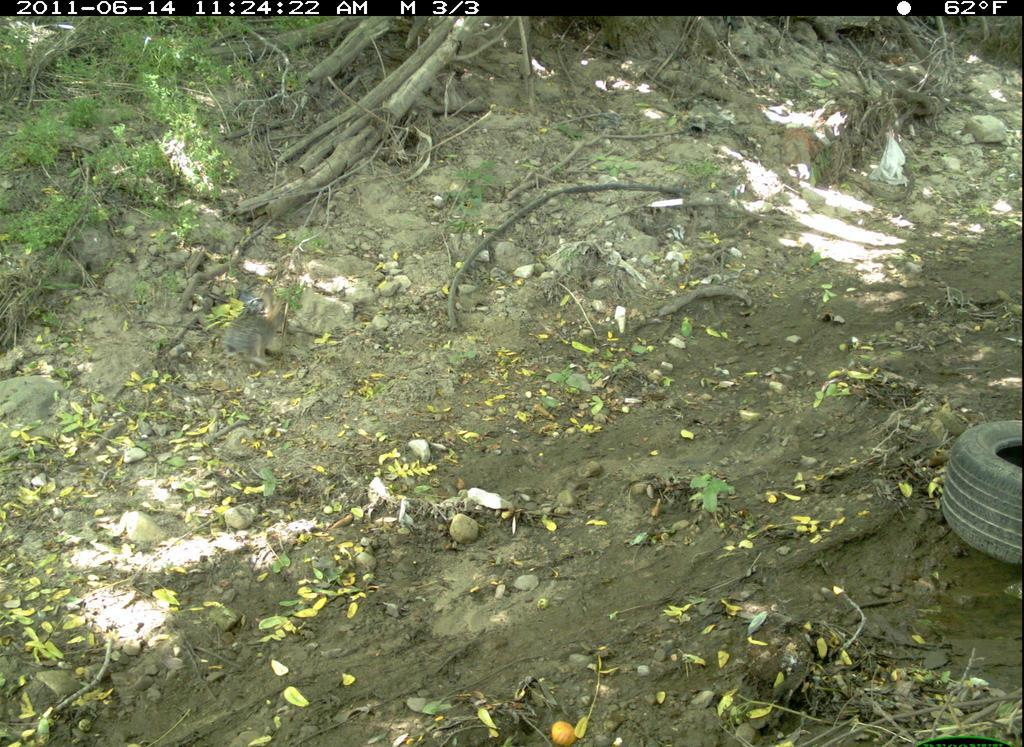rabbit: (217, 281, 295, 376)
